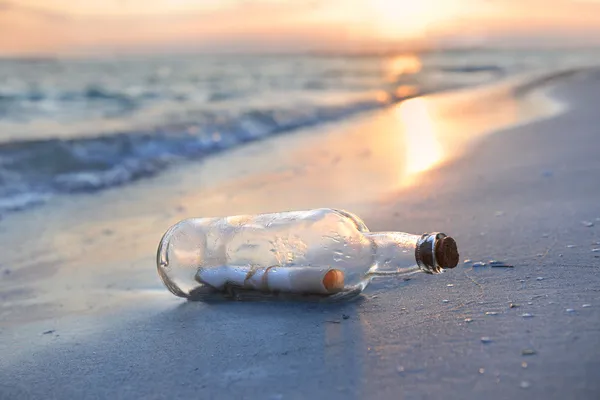glass_bottle: (141, 194, 469, 321)
